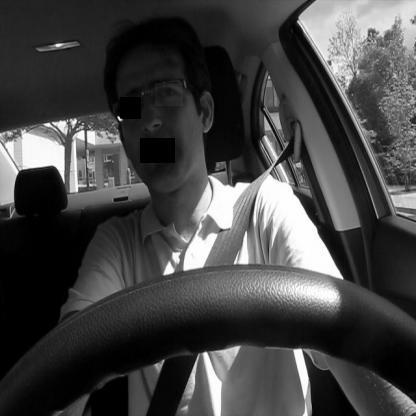seatbelt: (82, 0, 309, 416)
